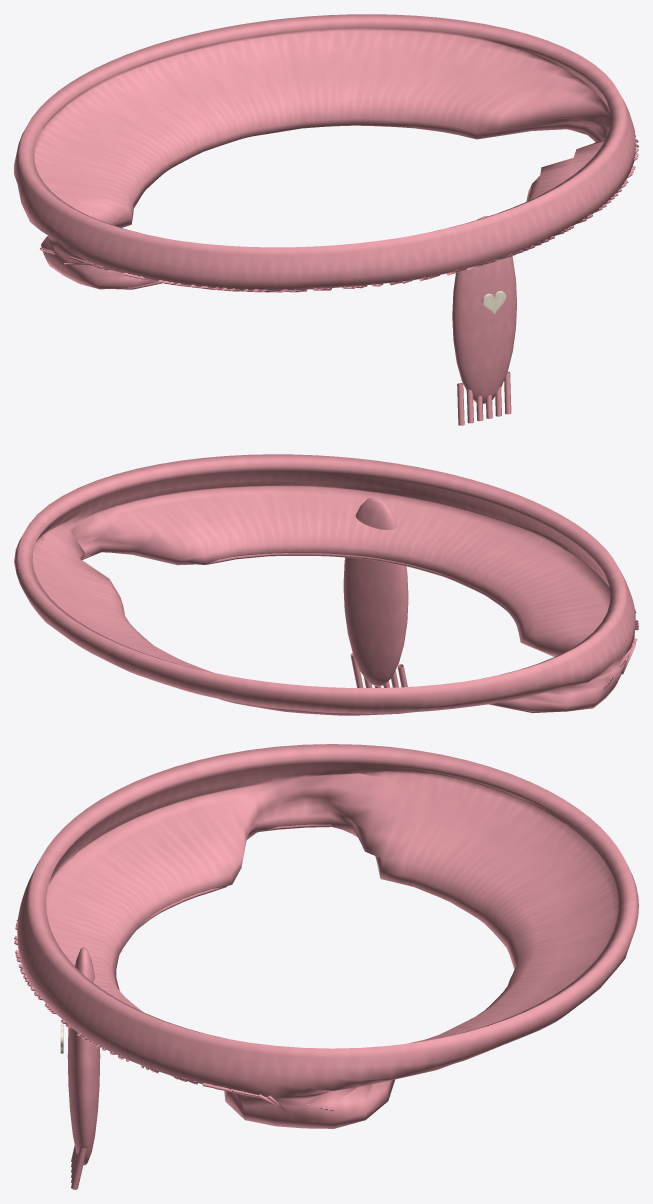
Rendered from restart_scarf_hearts_pig.glb.
3 views of the same model, one above another, from view 1: azimuth 30°, elevation 25°; view 2: azimuth 150°, elevation 25°; view 3: azimuth 270°, elevation 25° (orthographic). The views are drawn at different scales.
Parts seen in each view (by area): view 1: Patrón cuello · scarf_hearts.002, Cola mullida.002; view 2: Patrón cuello · scarf_hearts.002, Cola mullida.002, Dobladillo del cuello.004; view 3: Patrón cuello · scarf_hearts.002, Cola mullida.002.
Part boxes in pixels (left/top/right/bottom): Patrón cuello · scarf_hearts.002: left=14, top=14, right=635, bottom=290; Cola mullida.002: left=452, top=216, right=516, bottom=403; Patrón cuello · scarf_hearts.002: left=14, top=454, right=635, bottom=715; Cola mullida.002: left=343, top=497, right=408, bottom=686; Dobladillo del cuello.004: left=82, top=552, right=560, bottom=713; Patrón cuello · scarf_hearts.002: left=17, top=744, right=638, bottom=1128; Cola mullida.002: left=67, top=947, right=100, bottom=1165.
Size of the model in its own units: 0.7828 by 0.2908 by 0.6553.
Materials: 2 (2 with a texture image).
